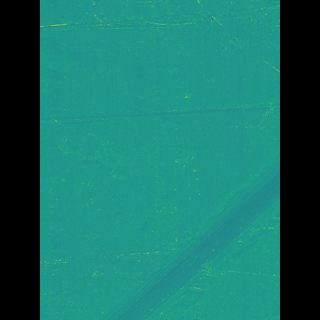Loch: (112, 150, 249, 320), (70, 0, 96, 302), (69, 94, 251, 134)
